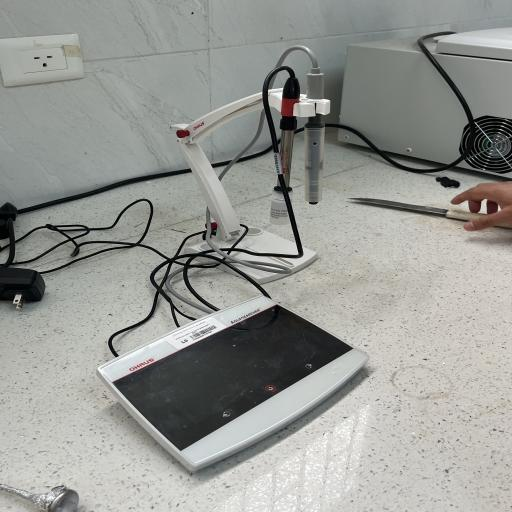Phmetro_Ohaus: (91, 291, 377, 480)
